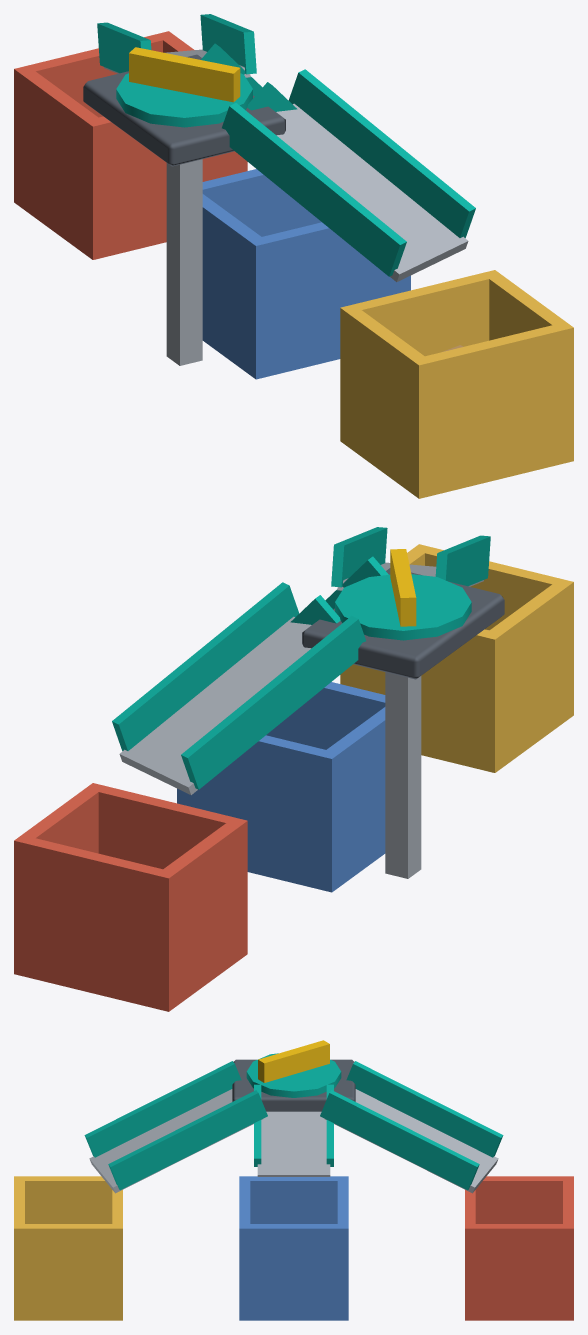
File: station_transport_ausstattung_3_2.glb
3 renders of one model, top to bottom at view 1: azimuth 30°, elevation 25°; view 2: azimuth 150°, elevation 25°; view 3: azimuth 270°, elevation 25°, orthographic. The views are drawn at different scales.
Parts seen in each view (by area): view 1: station_transport_ausstattung_3_2; view 2: station_transport_ausstattung_3_2; view 3: station_transport_ausstattung_3_2.
Part boxes in pixels (x1,y1,x2,y2): station_transport_ausstattung_3_2: [14, 14, 573, 498]; station_transport_ausstattung_3_2: [14, 527, 573, 1011]; station_transport_ausstattung_3_2: [14, 1040, 573, 1320].
Size of the model in its own units: 0.54 by 0.625 by 1.54.
